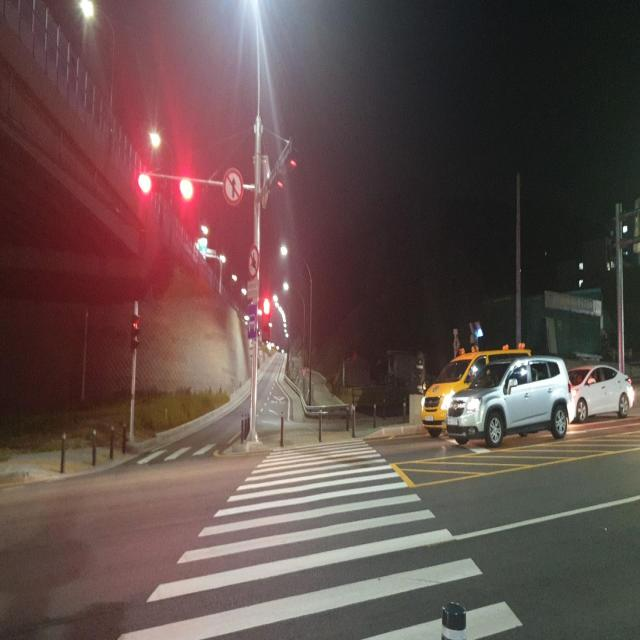빨간불: (259, 292, 272, 340)
횡단보도: (119, 433, 523, 640)
